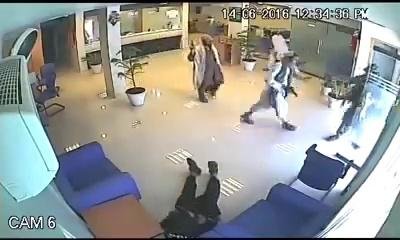weapon: (286, 83, 299, 98), (188, 38, 194, 47)
